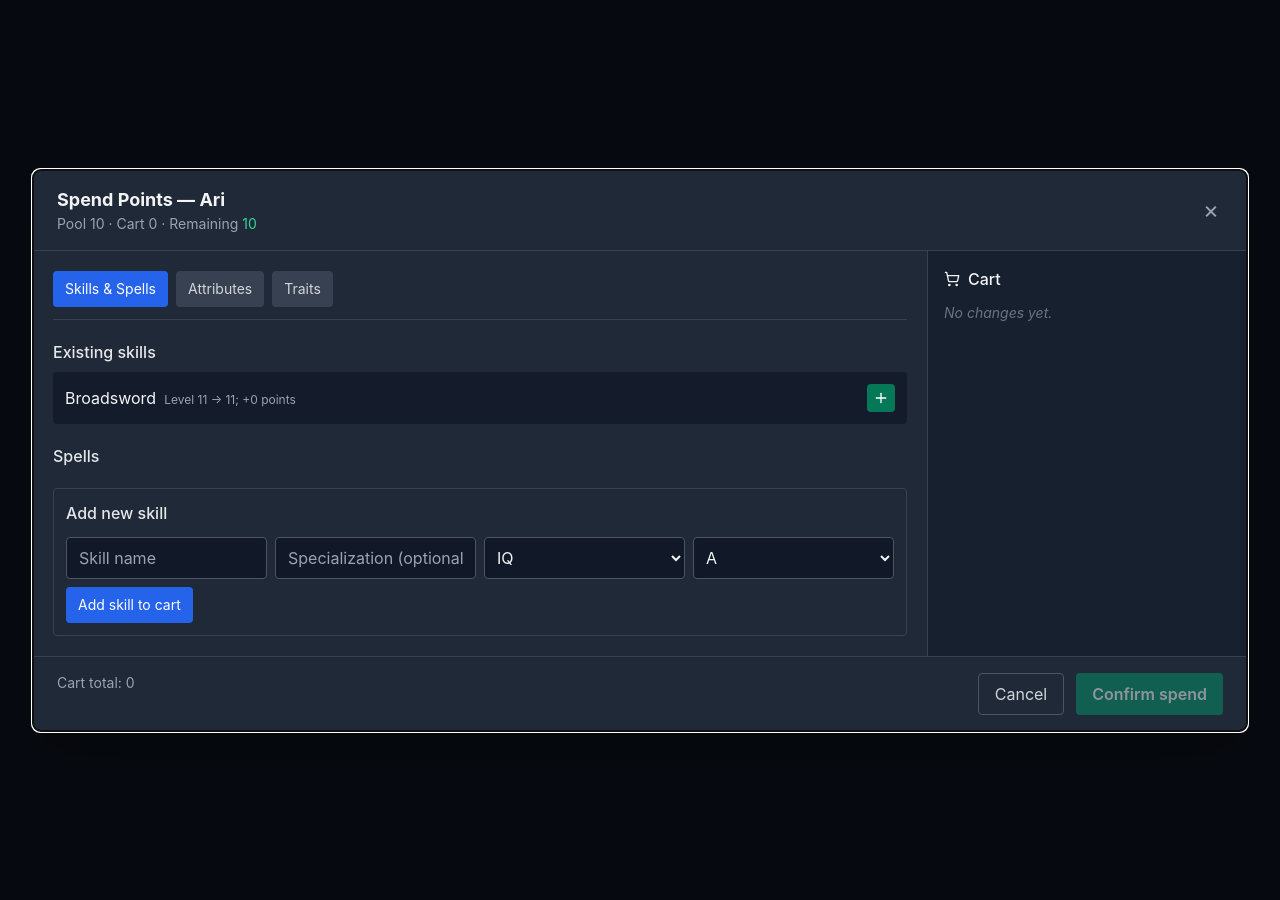
Test case: PointSpendModal › previews and accumulates skill costs
This screenshot has width=1280, height=900.
Click the button with test id "add-skill-point-sword".
click(881, 398)  # box [867,384,895,412]
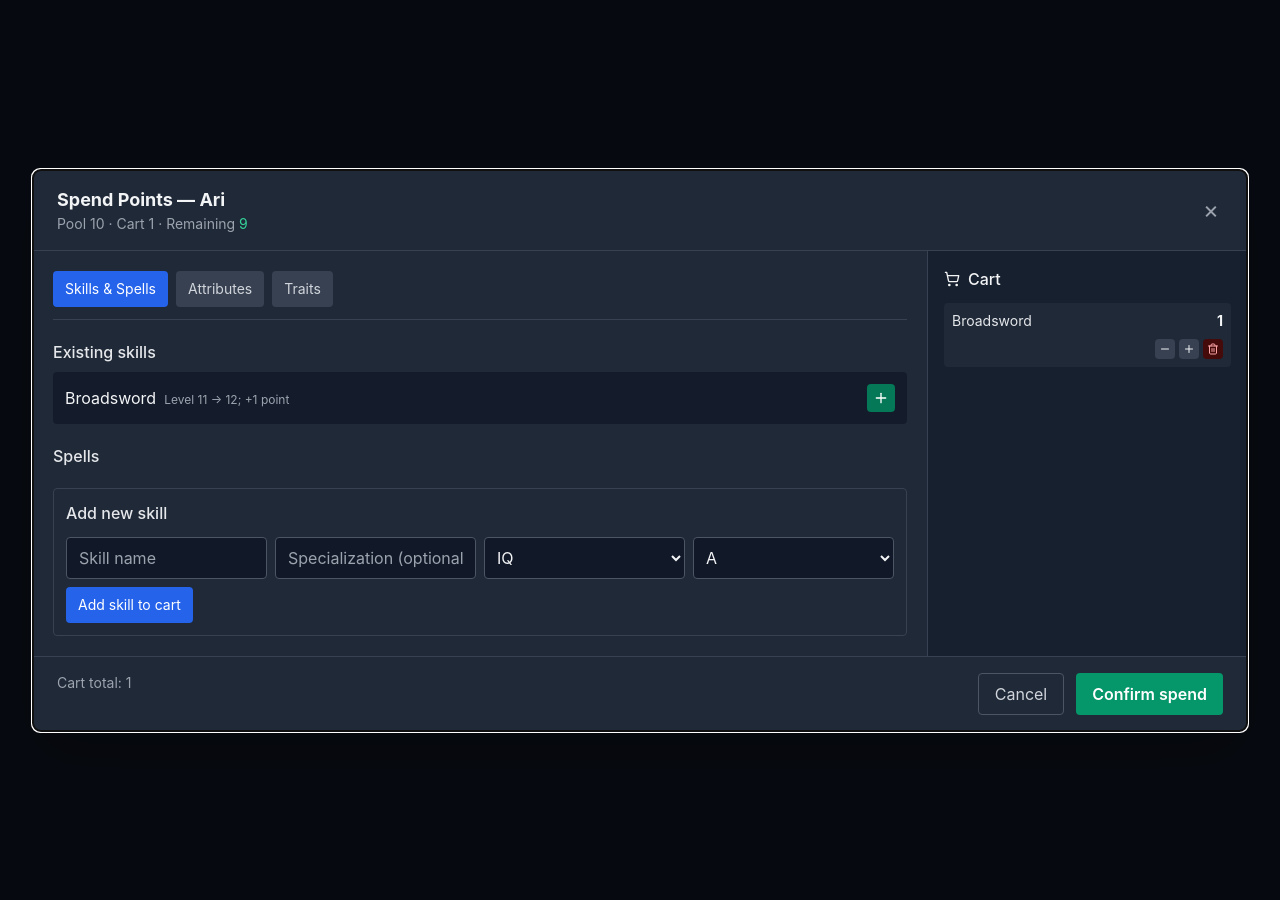
Click the button with test id "add-skill-point-sword".
click(881, 398)  # box [867,384,895,412]
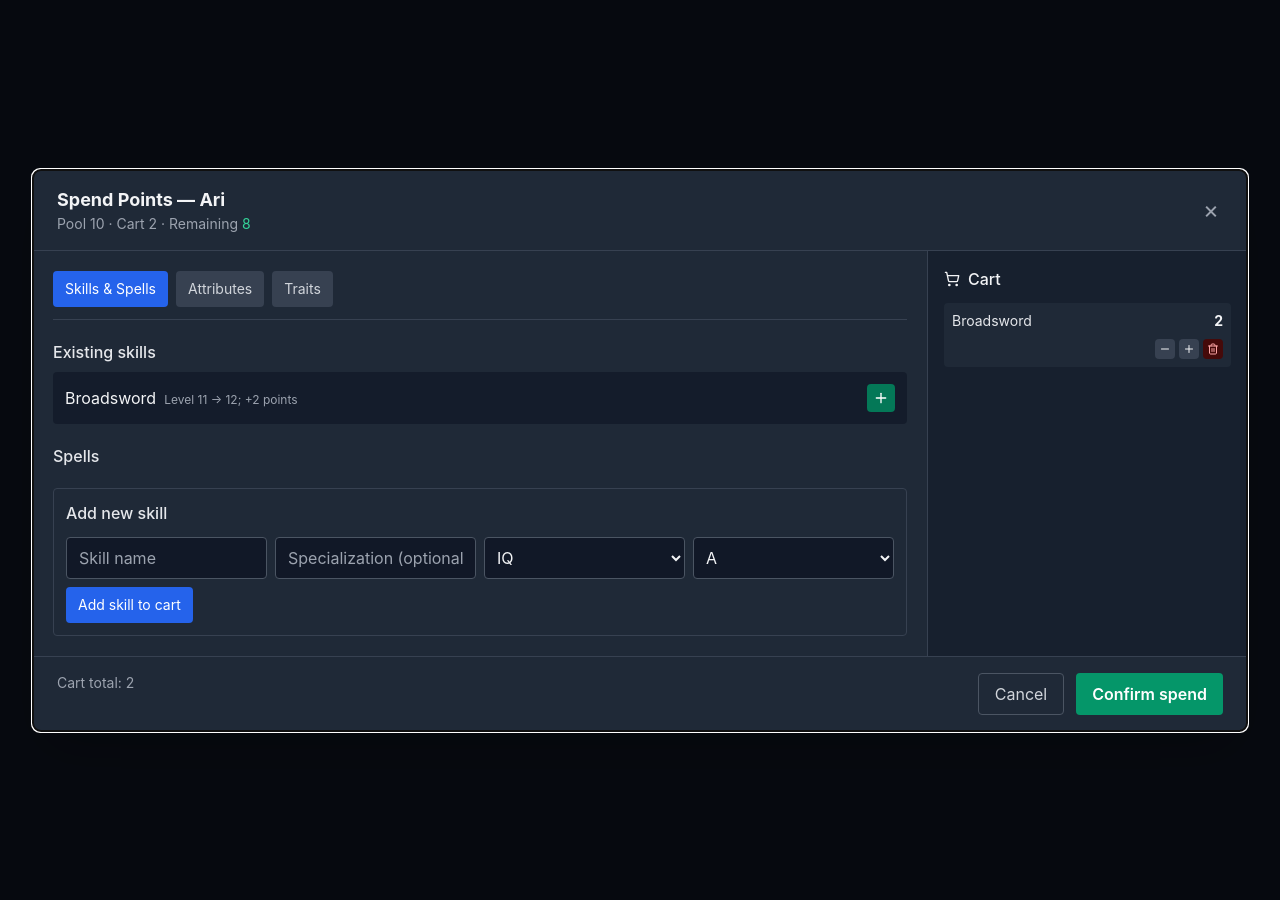
Check: the number of elements with test id "spend-cart-line" is 1, box [944,302,1231,366]
Check: the text "Level 11 → 12; +2 points" is shown, box [164,392,298,406]
Check: the text "Cart total: 2" is shown, box [57,674,134,690]
